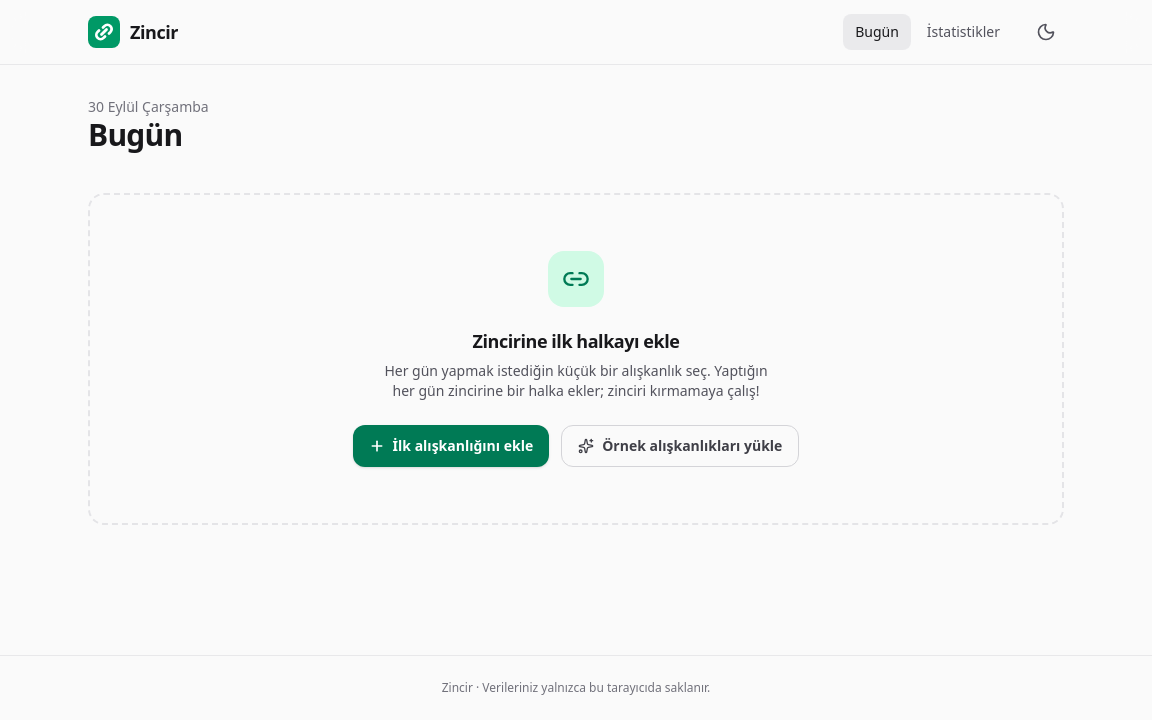
Scenario: Yönergedeki dört işlem (CRUD) › Ekle: aynı ad (Türkçe büyük/küçük harf farkıyla) tekrar eklenemez
Click the button "Örnek alışkanlıkları yükle": click(680, 446) [561, 425, 799, 467]
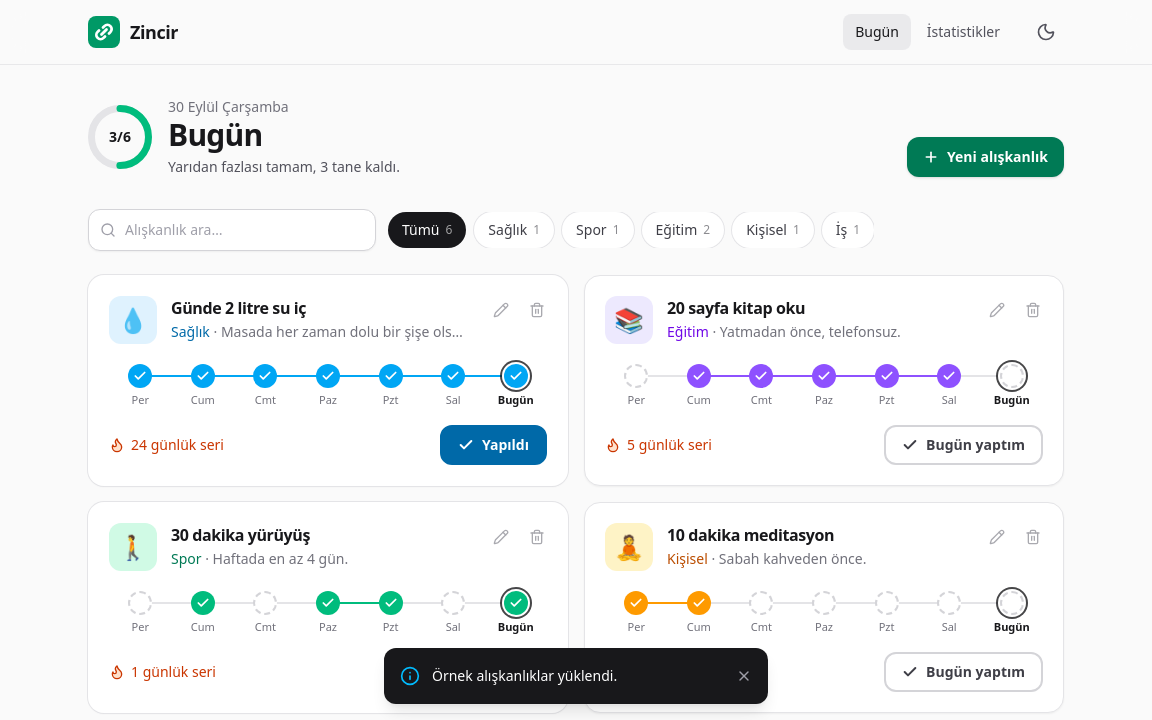
Click the button "Yeni alışkanlık": click(986, 157) [907, 137, 1064, 177]
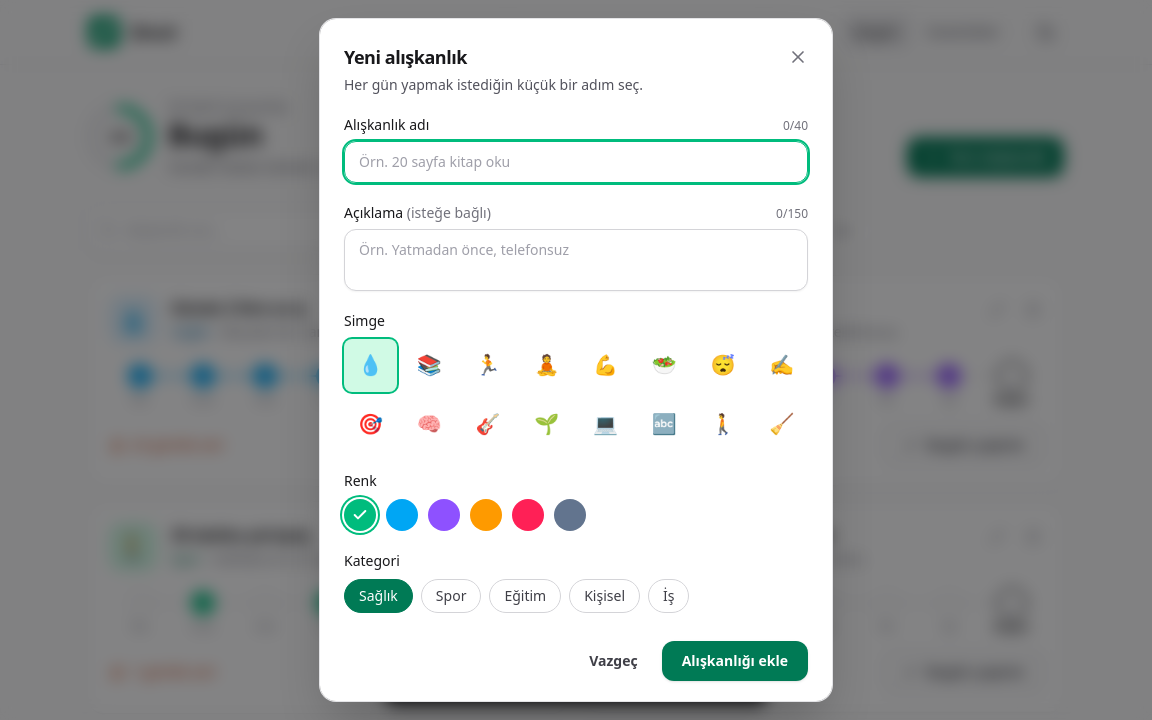
In the field labelled "Alışkanlık adı": (576, 162) [344, 141, 808, 183], type "20 SAYFA KİTAP OKU"
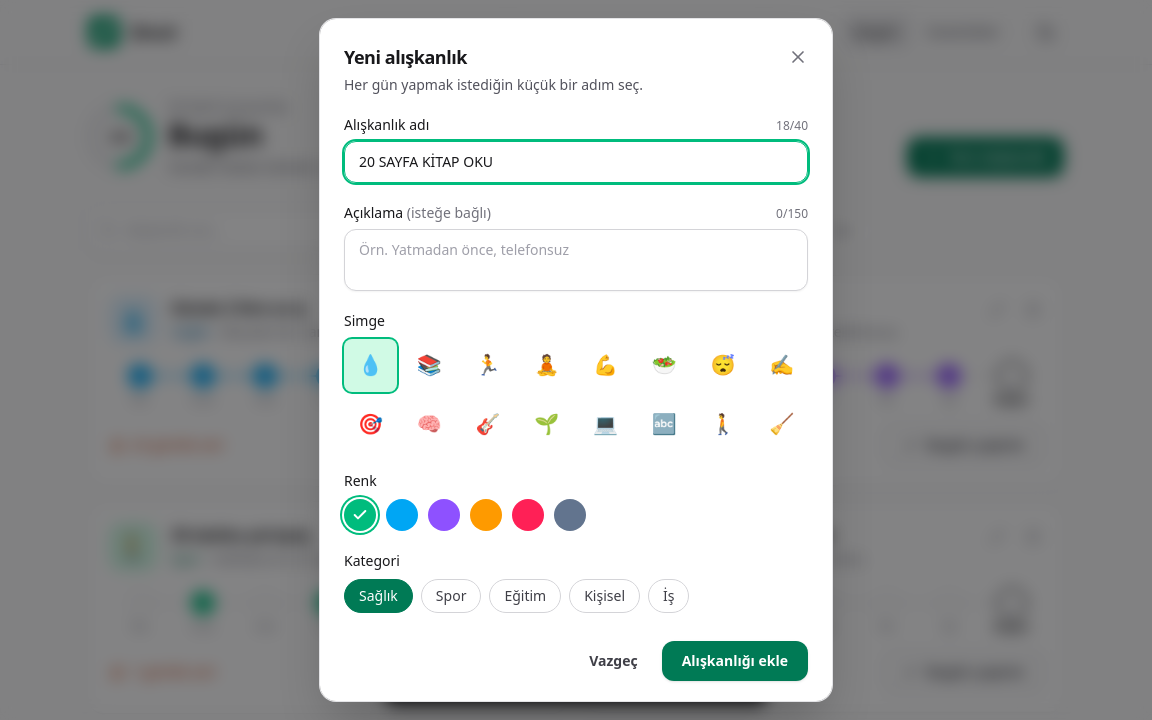
Click the button "Alışkanlığı ekle": click(735, 660) [662, 640, 808, 680]
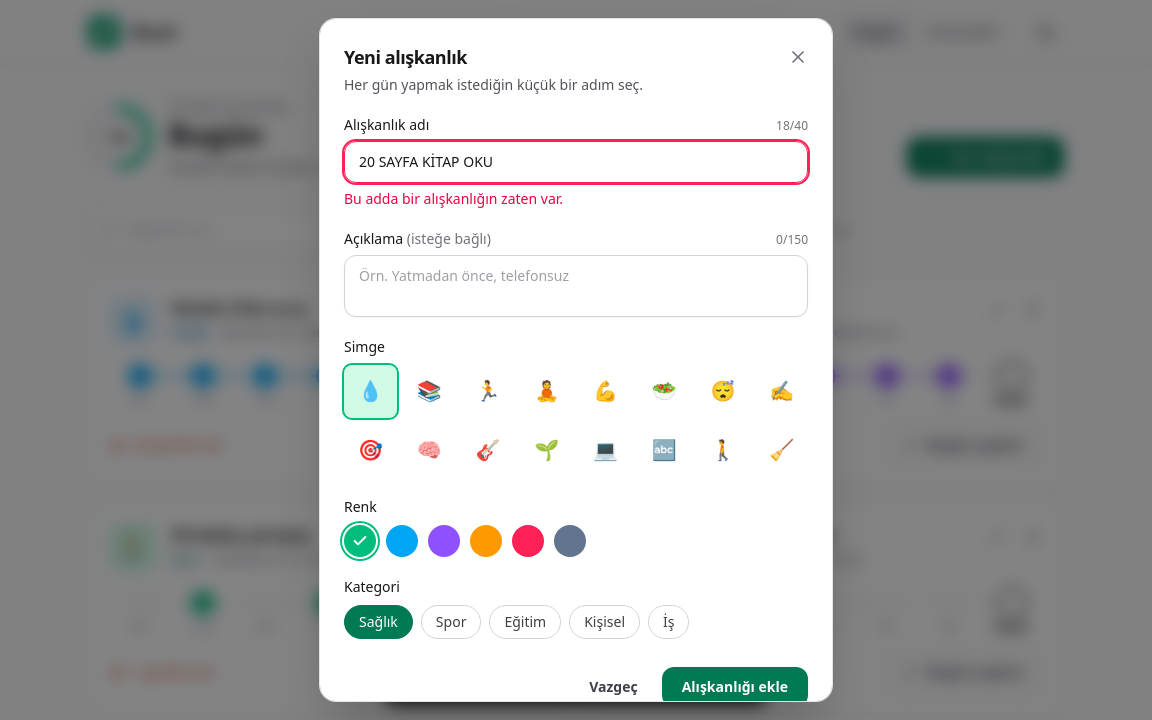
Result: the text "Bu adda bir alışkanlığın zaten var." is shown at [344, 189, 563, 208]
